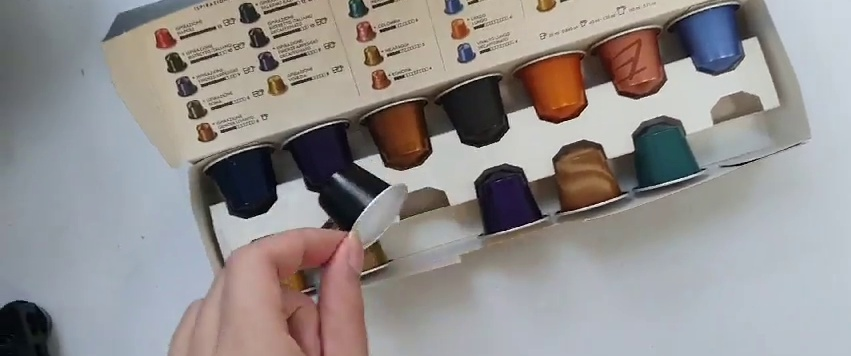capsule_10: (317, 164, 406, 254)
